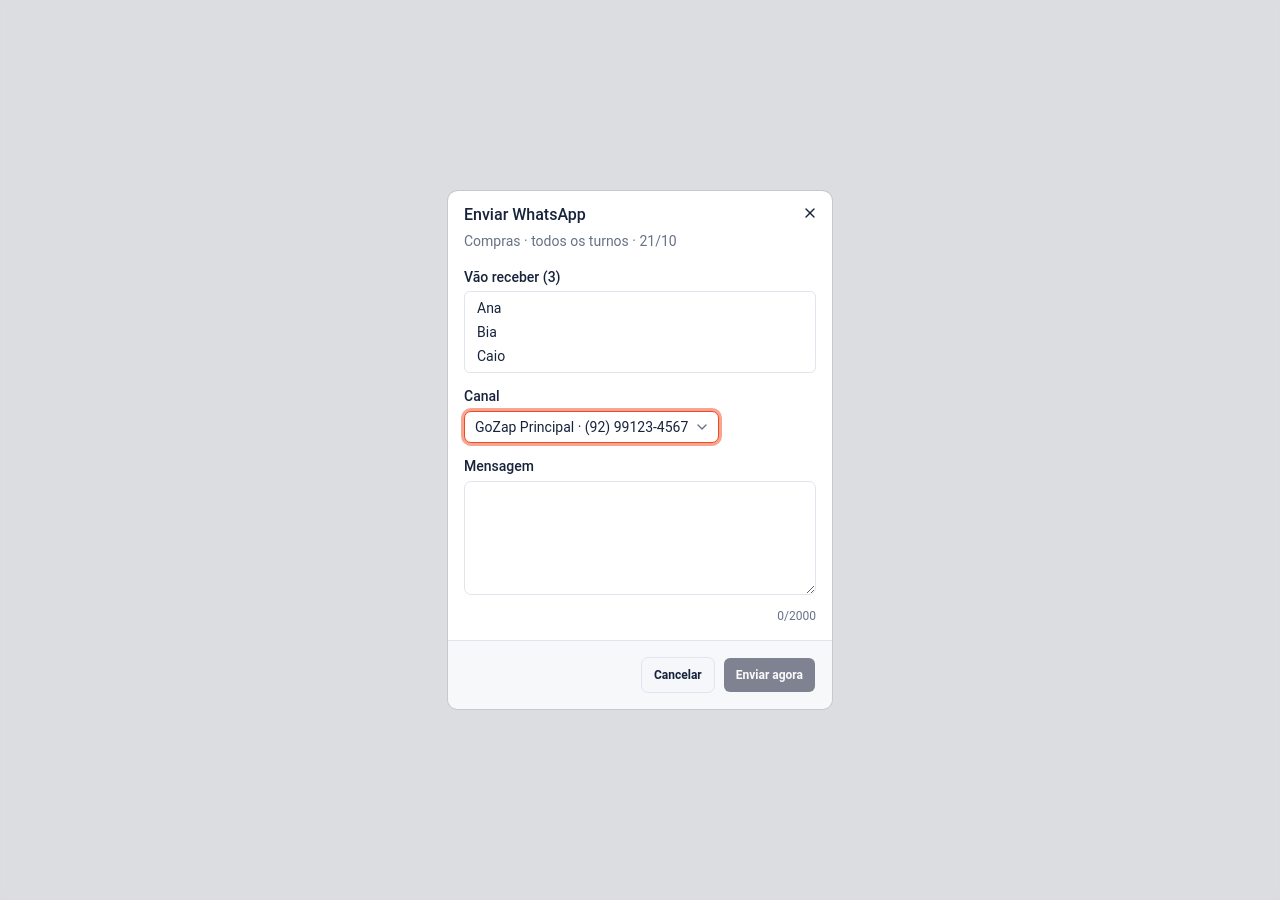
Scenario: SendWhatsappDialog situação dos canais › mostra canais inutilizáveis desabilitados com a situação, depois dos utilizáveis
What coordinates should you click on to do the following:
click the dropdown named "Canal"
I would click on:
 (592, 427)
Its box is [464,411,719,443].
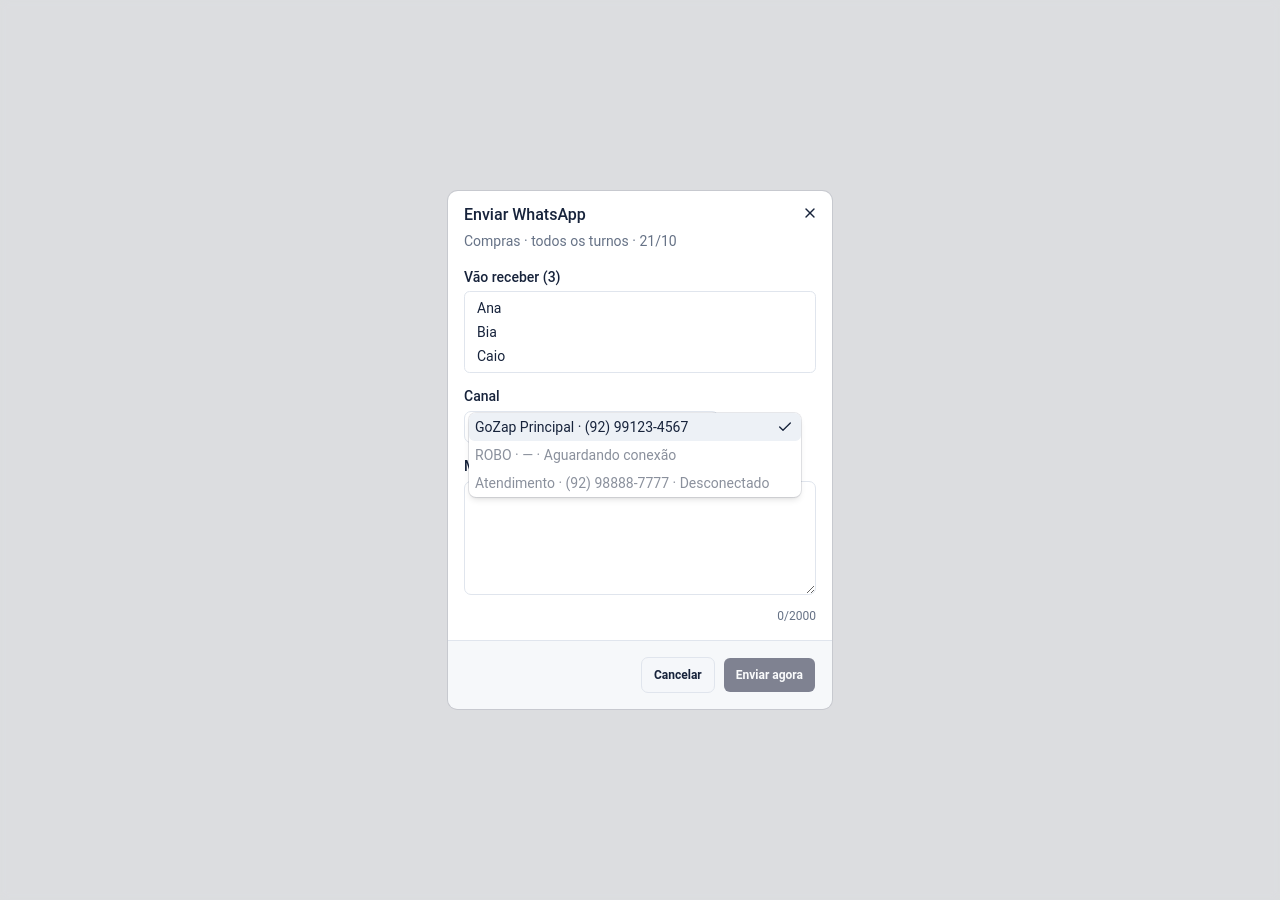
Now the options read "GoZap Principal · (92) 99123-4567", "ROBO · — · Aguardando conexão", "Atendimento · (92) 98888-7777 · Desconectado", in this order, box [469,413,801,441]; [475,447,676,463]; [475,475,769,491]
